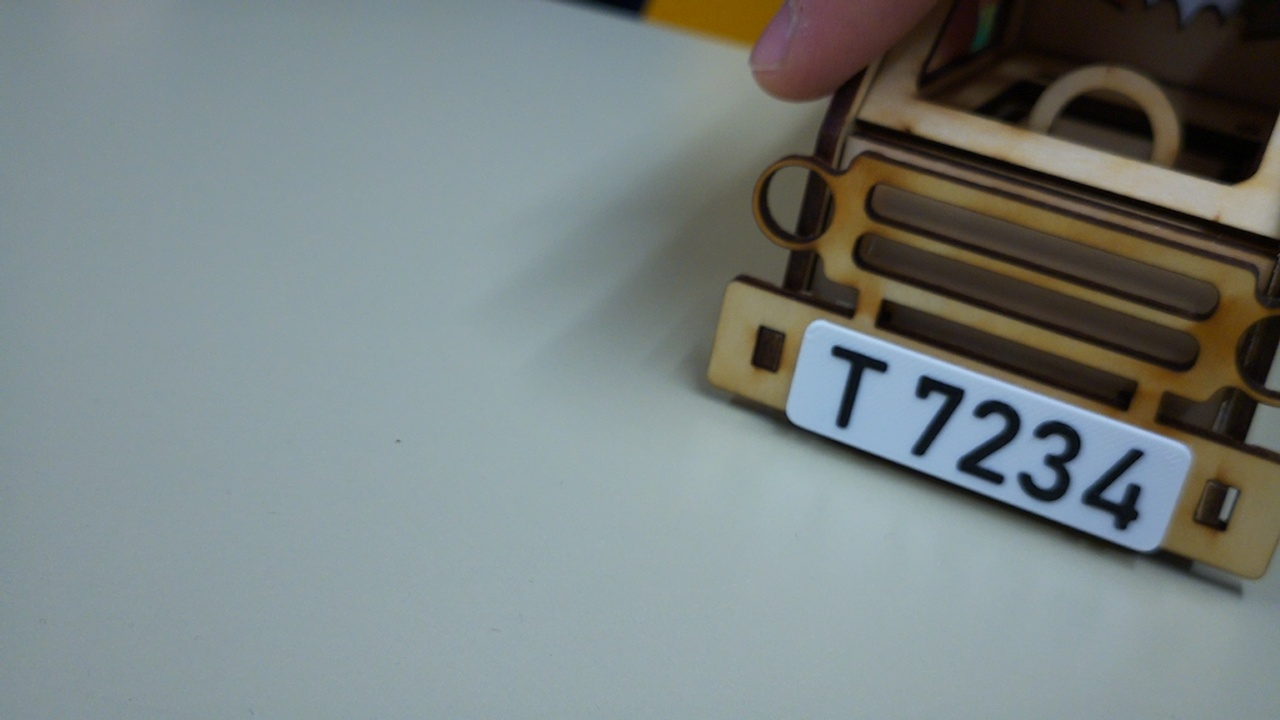license_plate: (781, 314, 1195, 555)
